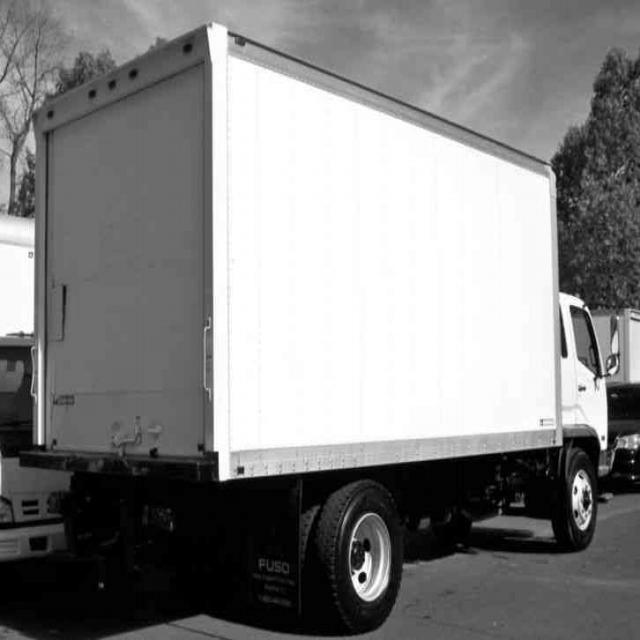truck: (538, 268, 635, 496)
